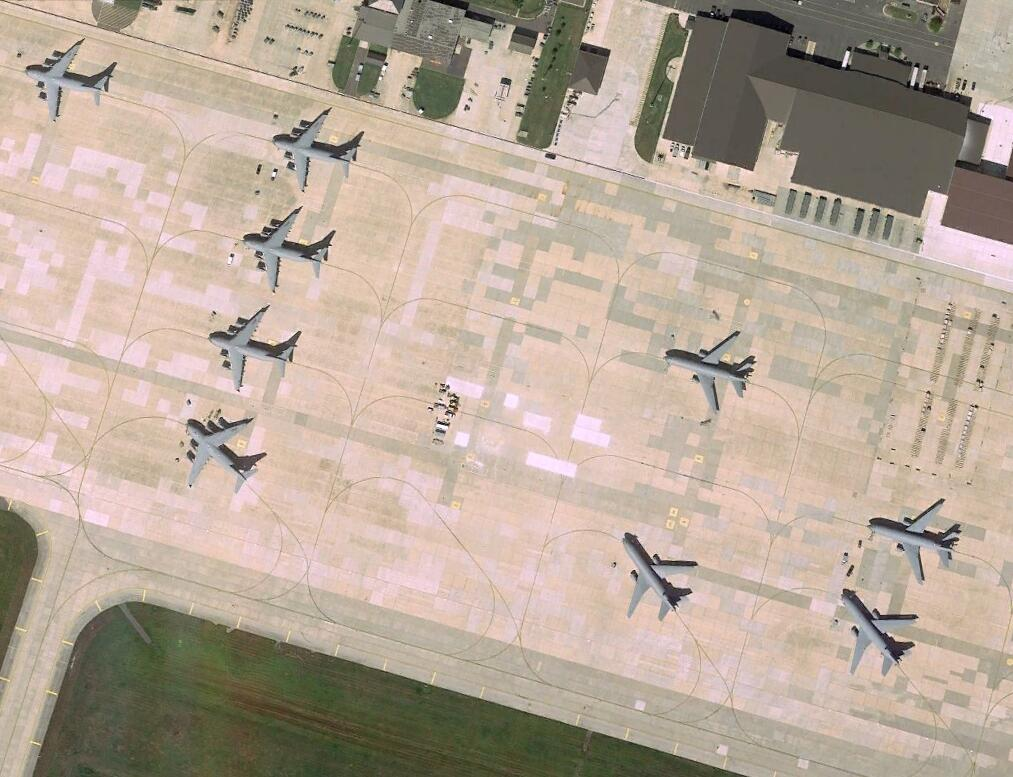A18: (867, 495, 963, 584), (663, 327, 758, 415), (837, 589, 923, 677), (618, 534, 701, 622)
A3: (23, 36, 118, 126), (242, 210, 336, 293), (270, 110, 362, 194), (210, 308, 299, 392), (183, 413, 272, 497)
